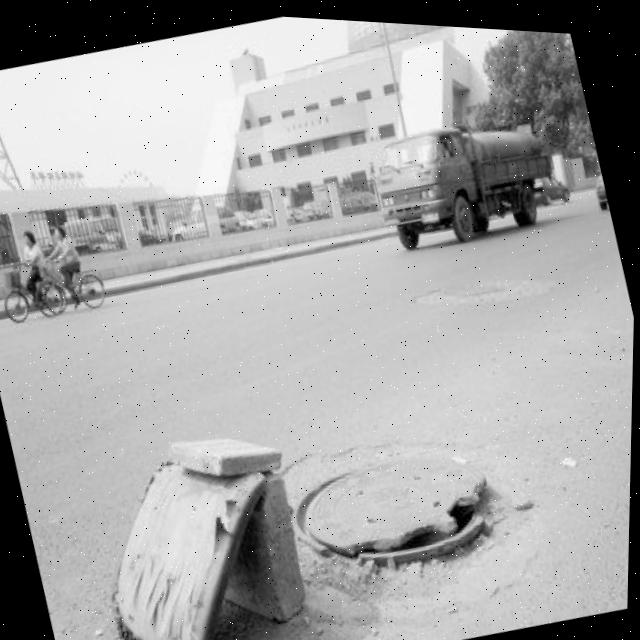manhole: (278, 407, 517, 603)
